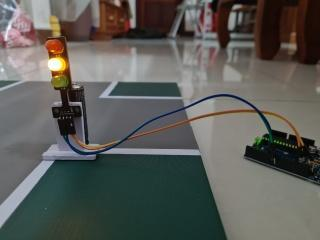yellow: (27, 23, 85, 102)
